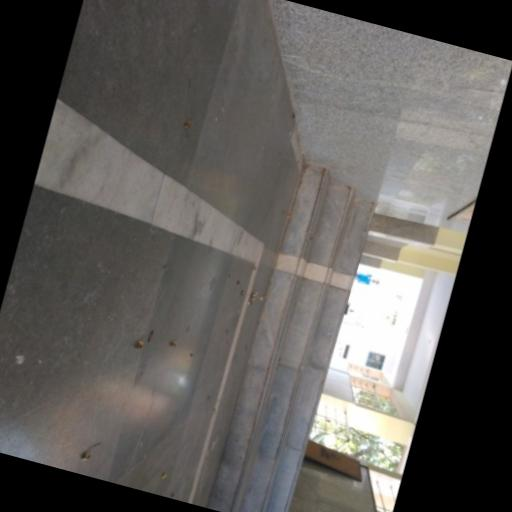stairs: (206, 165, 373, 511)
